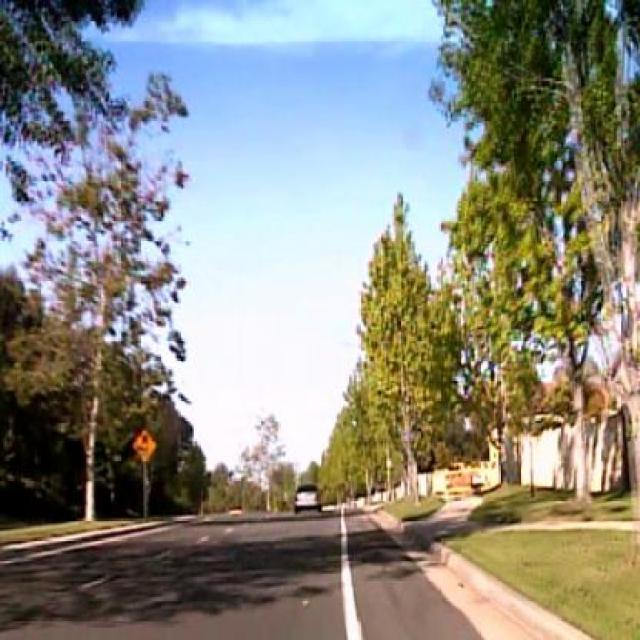signalAhead: (131, 426, 157, 464)
